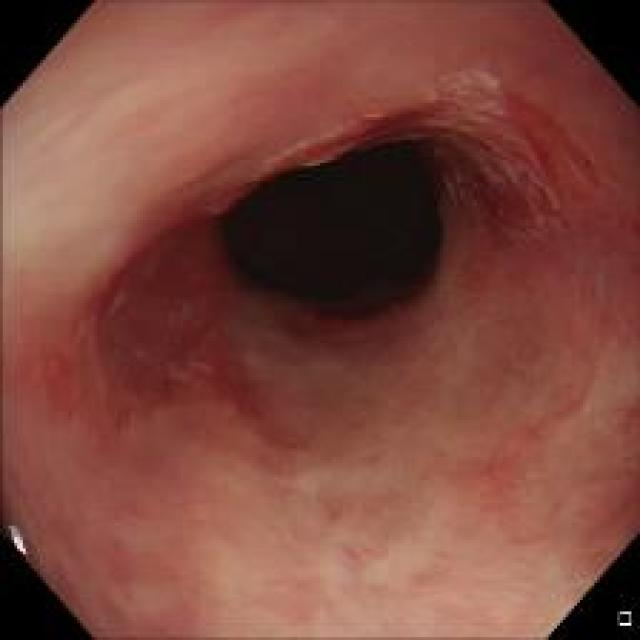blur: (1, 210, 635, 635)
color misalignment: (6, 516, 36, 560)
contrast: (209, 125, 460, 332)
specularity: (10, 534, 25, 552)
